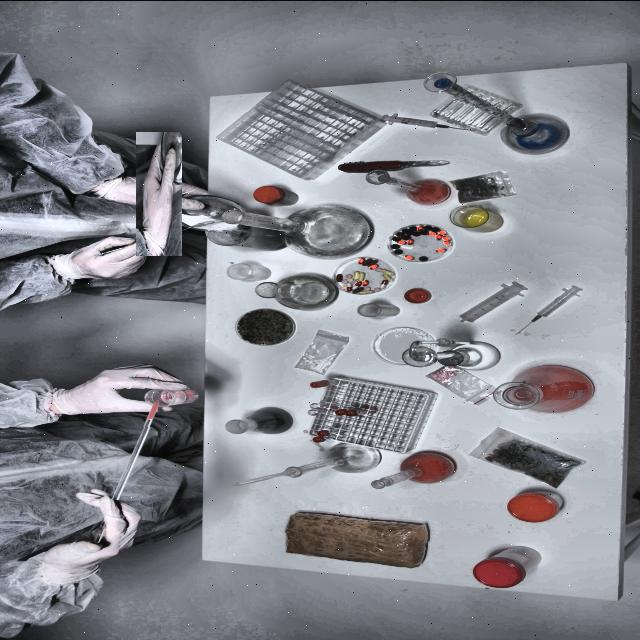gloved: (26, 486, 144, 593), (54, 359, 198, 426), (36, 230, 175, 288), (116, 150, 202, 236)
